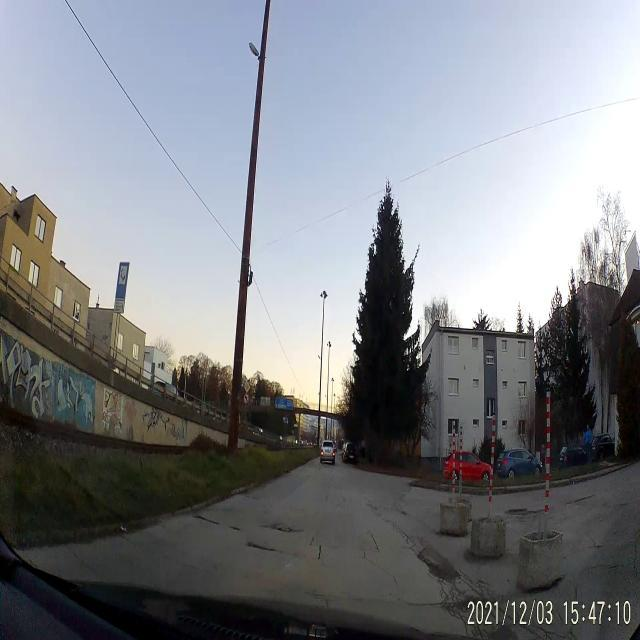Pothole: (418, 540, 457, 584), (267, 515, 298, 537), (243, 538, 276, 558), (193, 511, 220, 530)
